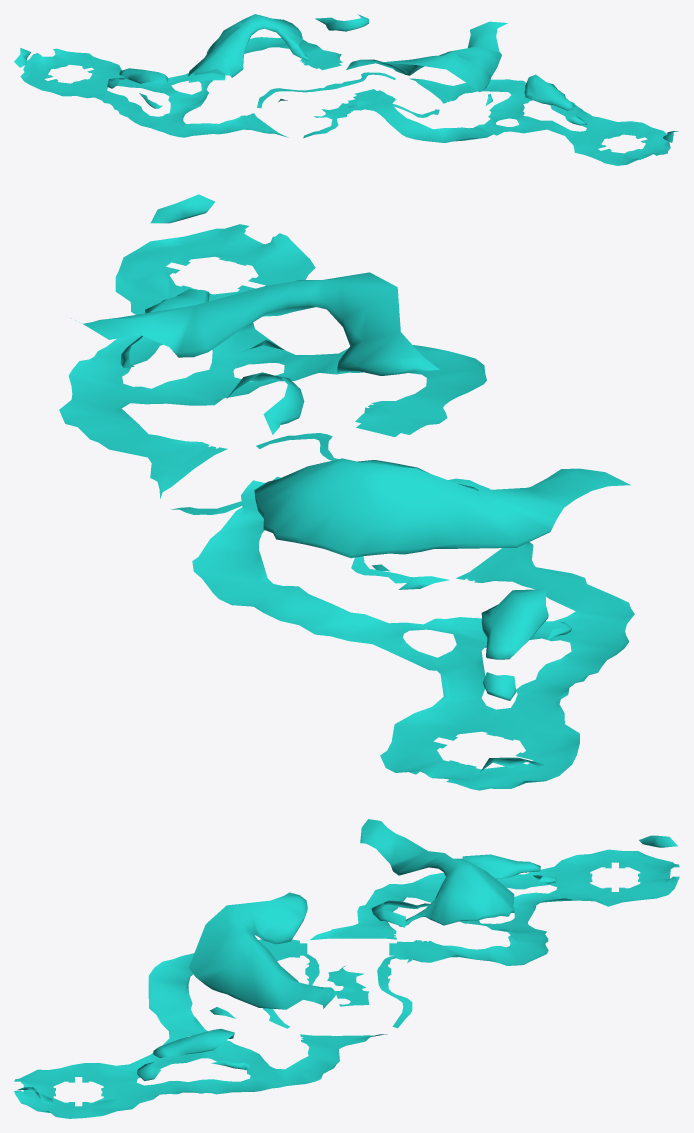
File: cluster_2.fbx
3 renders of one model, top to bottom at view 1: azimuth 30°, elevation 25°; view 2: azimuth 150°, elevation 25°; view 3: azimuth 270°, elevation 25°, orthographic. The views are drawn at different scales.
Visible parts, largest first — view 1: cluster_2; view 2: cluster_2; view 3: cluster_2.
Boxes of the visible parts, <box> form: cluster_2: <box>14,14,678,165</box>; cluster_2: <box>59,194,634,790</box>; cluster_2: <box>14,819,679,1118</box>.
Size of the model in its own units: 1282026 by 215665 by 1348535.
